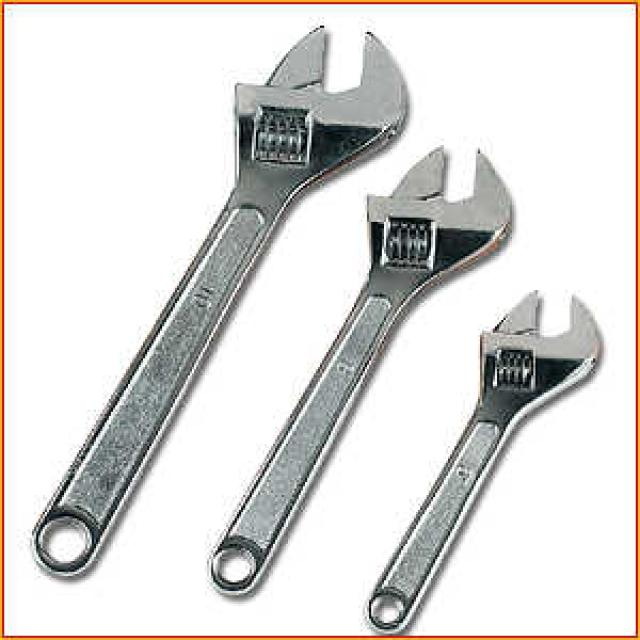wrench: (174, 3, 409, 354), (320, 122, 541, 342), (462, 278, 616, 512)
